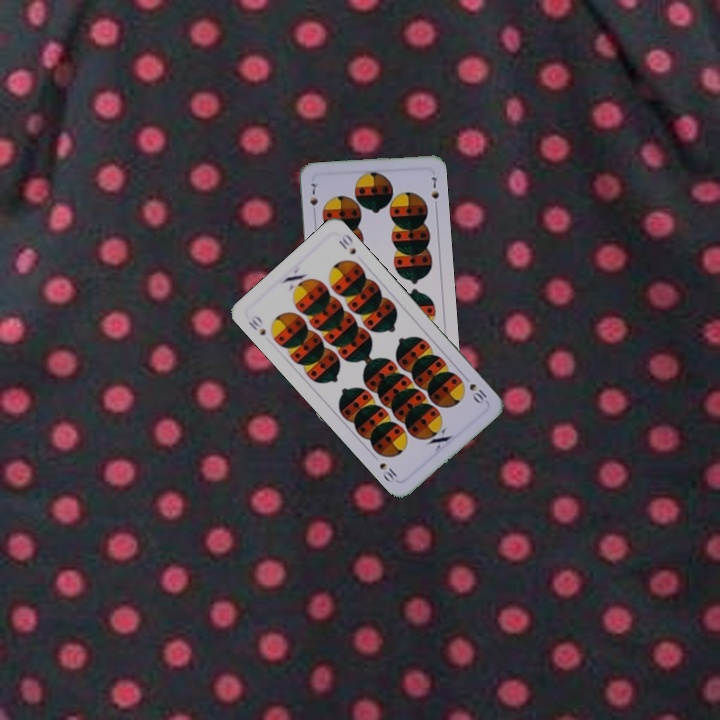S10: (459, 371, 490, 407), (244, 311, 268, 338)
S7: (306, 179, 320, 218)
